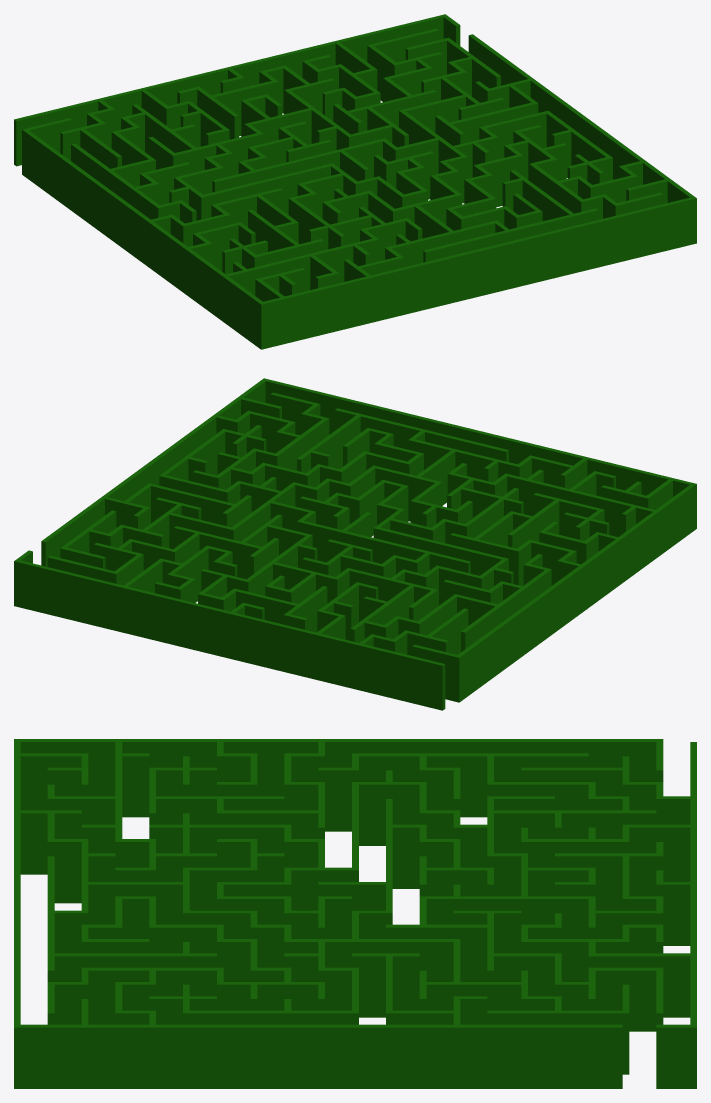
The model's file is laberinto002.gltf.
3 views of the same model, one above another, from view 1: azimuth 30°, elevation 25°; view 2: azimuth 150°, elevation 25°; view 3: azimuth 270°, elevation 25° (orthographic). The views are drawn at different scales.
Visible parts, largest first — view 1: Layer:0; view 2: Layer:0; view 3: Layer:0.
Part boxes in pixels (x1,y1,x2,y2): Layer:0: (14, 14, 696, 349); Layer:0: (14, 378, 696, 710); Layer:0: (14, 739, 696, 1088).
Size of the model in its own units: 20.2 by 2 by 20.2.
